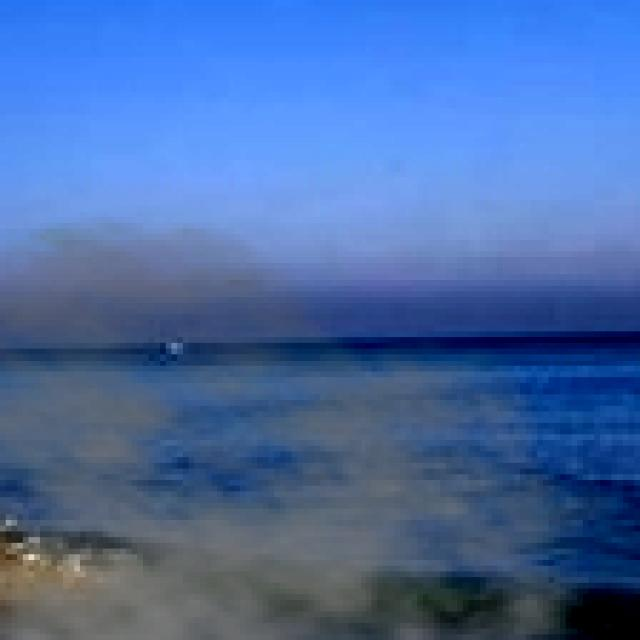smoke: (0, 211, 629, 640)
